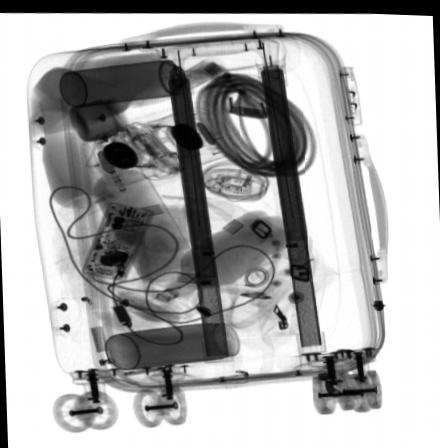Sprayer: (59, 54, 215, 106)
